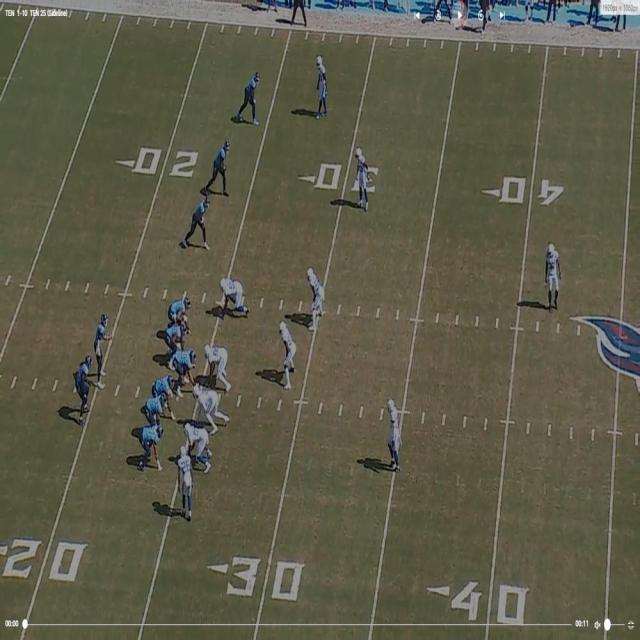center: (175, 348, 196, 386)
db: (353, 147, 370, 210), (178, 447, 193, 518), (546, 243, 559, 308), (390, 397, 401, 469), (318, 58, 328, 112)
lb: (307, 268, 321, 327), (280, 324, 294, 382)
qb: (97, 314, 110, 375)
skill: (210, 138, 230, 195), (78, 352, 94, 422), (242, 72, 260, 123), (194, 191, 210, 245), (144, 423, 160, 464)
